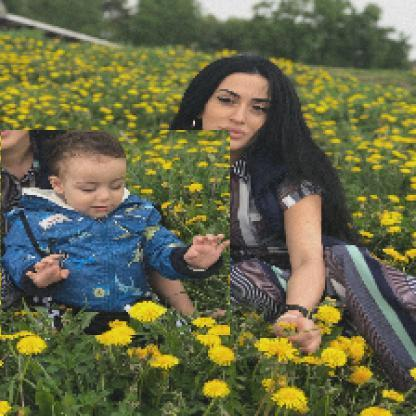child: (2, 131, 232, 337)
